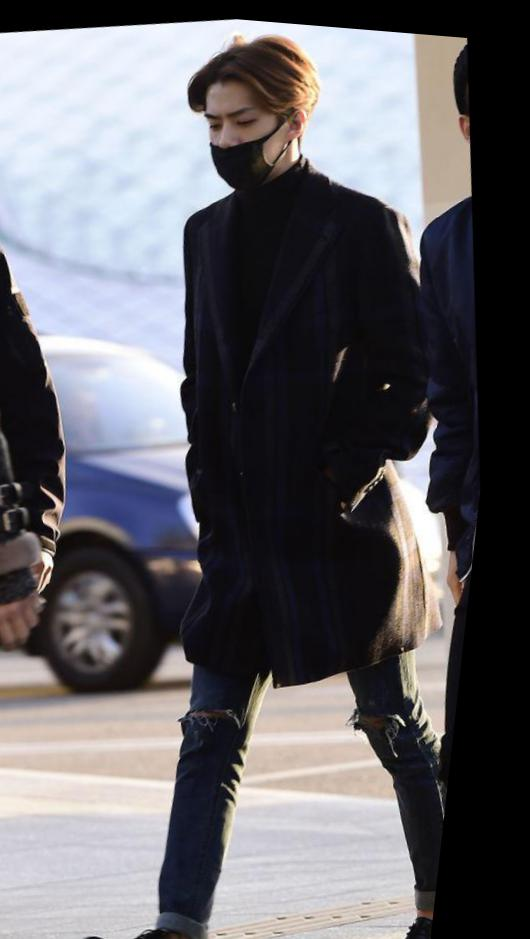WRONG: (187, 82, 303, 195)
